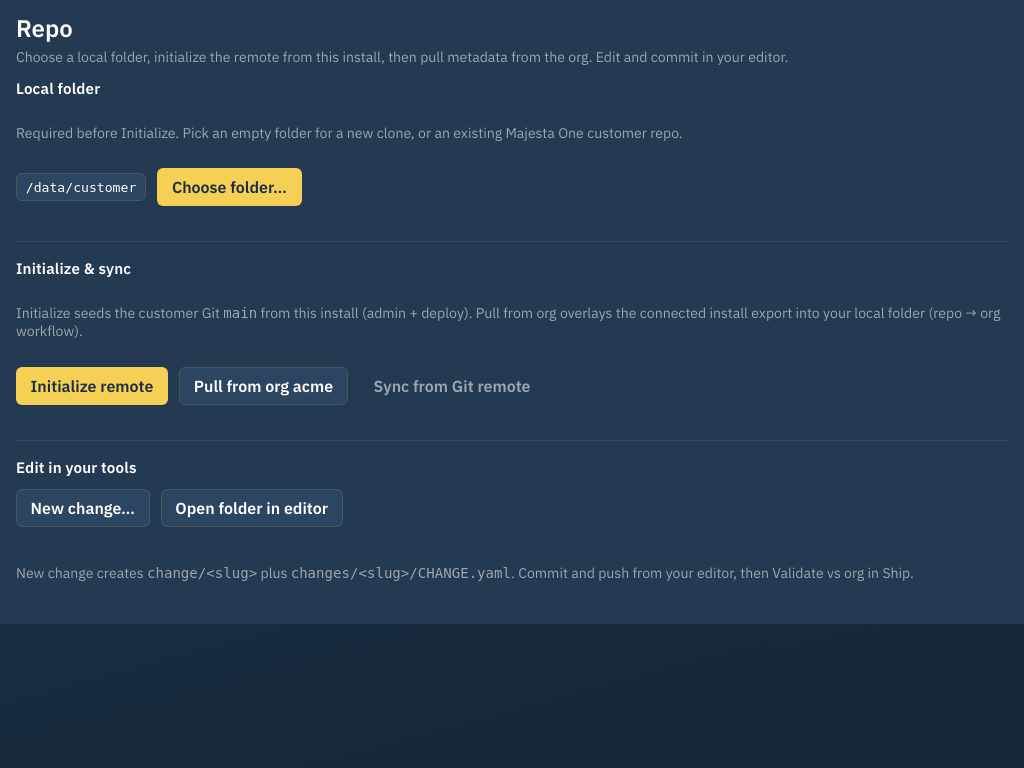
Test: RepoPanel › initializes remote, persists URL, and clones into chosen folder
The image size is (1024, 768).
Expected: the button with test id "repo-pull-org" shows "acme", [179, 366, 348, 404]
Click the button with test id "repo-initialize-remote".
click(92, 386)  # box [16, 366, 168, 404]
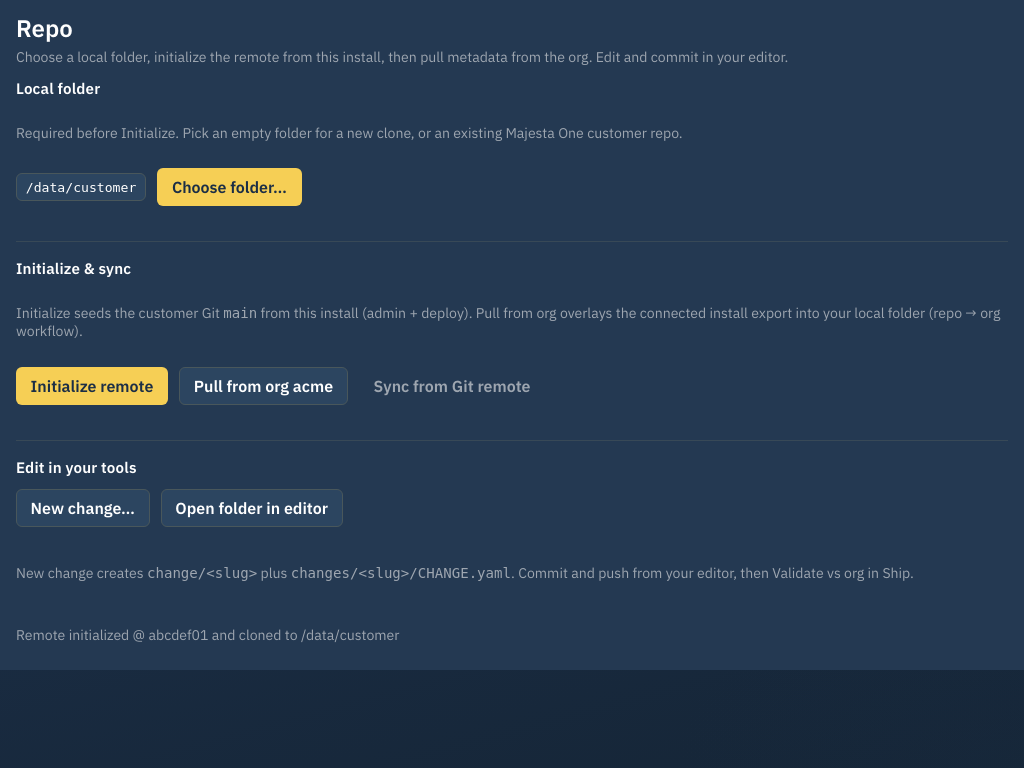
Expected: the text with test id "repo-info" shows "Remote initialized", [16, 626, 400, 644]
